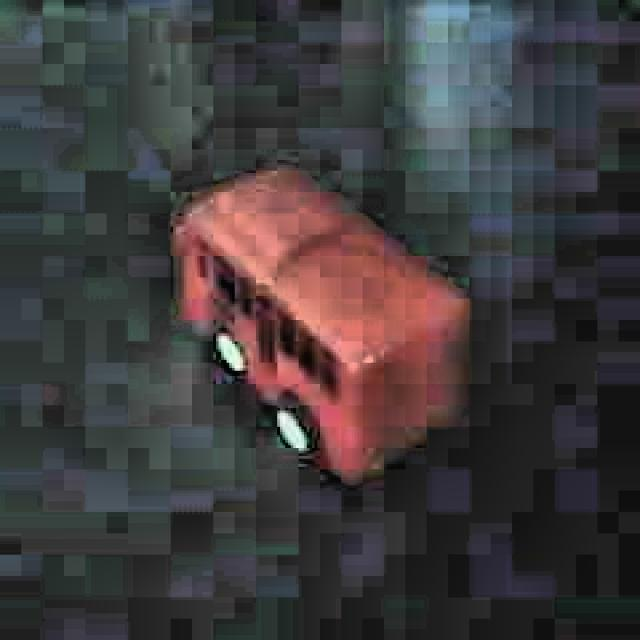bus: (162, 160, 470, 490)
